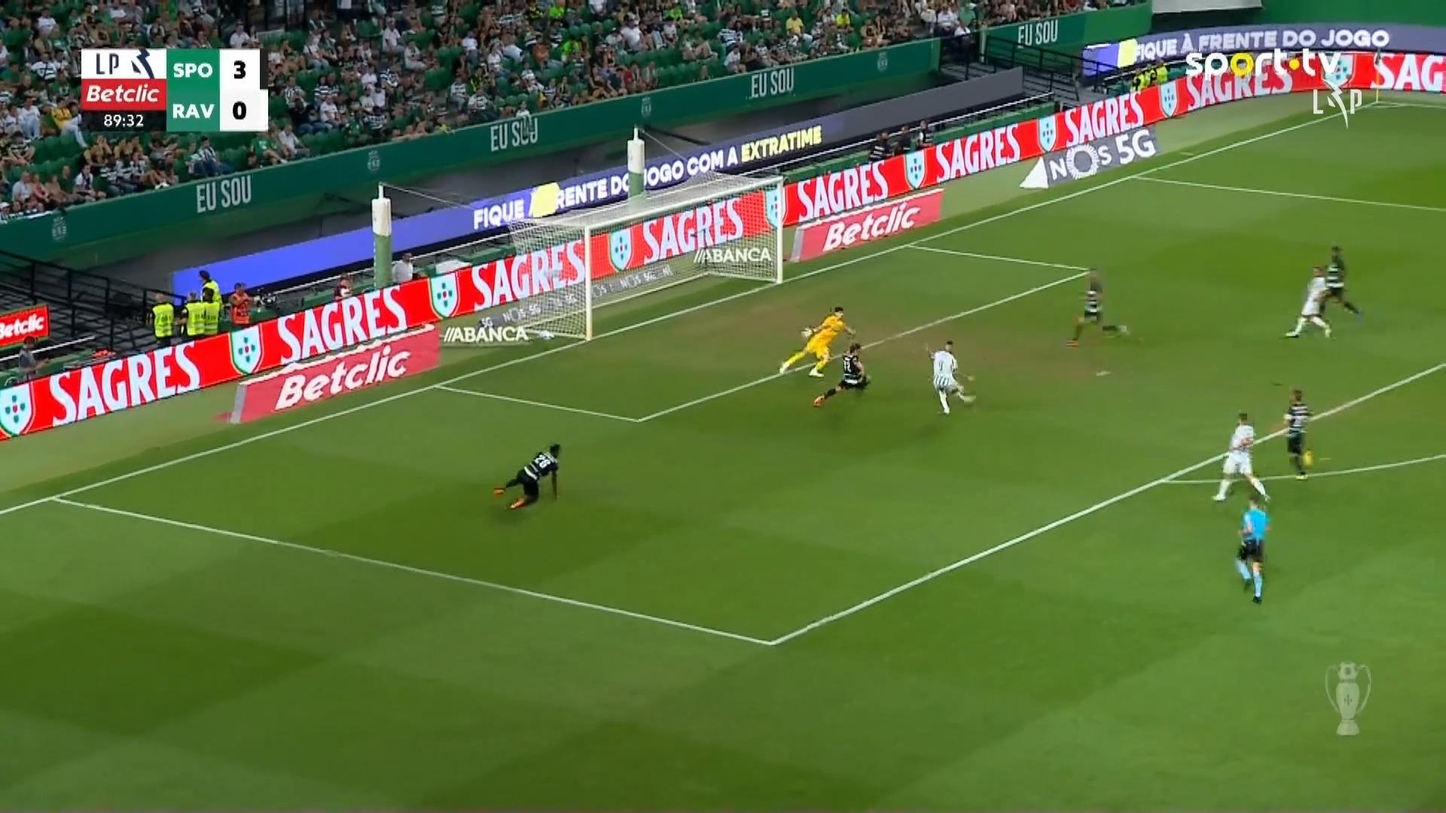ball: (966, 373, 974, 381)
goalkeeper: (777, 305, 856, 378)
player: (1212, 410, 1271, 504), (1064, 266, 1129, 348), (493, 443, 562, 510), (812, 341, 871, 408), (924, 340, 976, 415), (1283, 264, 1333, 339), (1316, 244, 1362, 323), (1283, 387, 1312, 480), (149, 292, 175, 348)
referee: (1234, 495, 1271, 603)
